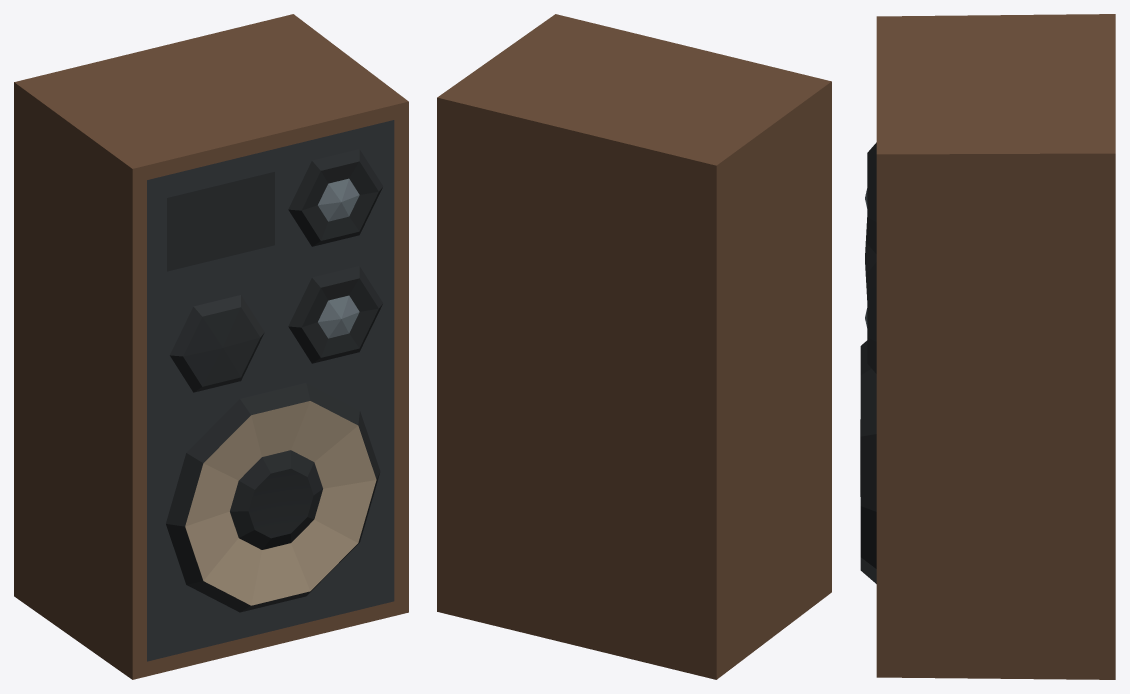
Rendered from SM_Prop_Electronics_Speaker_04.glb.
3 renders of one model, left to right at view 1: azimuth 30°, elevation 25°; view 2: azimuth 150°, elevation 25°; view 3: azimuth 270°, elevation 25°, orthographic. The views are drawn at different scales.
Visible parts, largest first — view 1: SM_Prop_Electronics_Speaker_04; view 2: SM_Prop_Electronics_Speaker_04; view 3: SM_Prop_Electronics_Speaker_04.
Part boxes in pixels (bbox=[...]): SM_Prop_Electronics_Speaker_04: bbox=[14, 14, 408, 679]; SM_Prop_Electronics_Speaker_04: bbox=[437, 14, 831, 679]; SM_Prop_Electronics_Speaker_04: bbox=[860, 14, 1115, 679].
Size of the model in its own units: 0.4933 by 0.8677 by 0.3819.
Materials: 1 (1 with a texture image).
